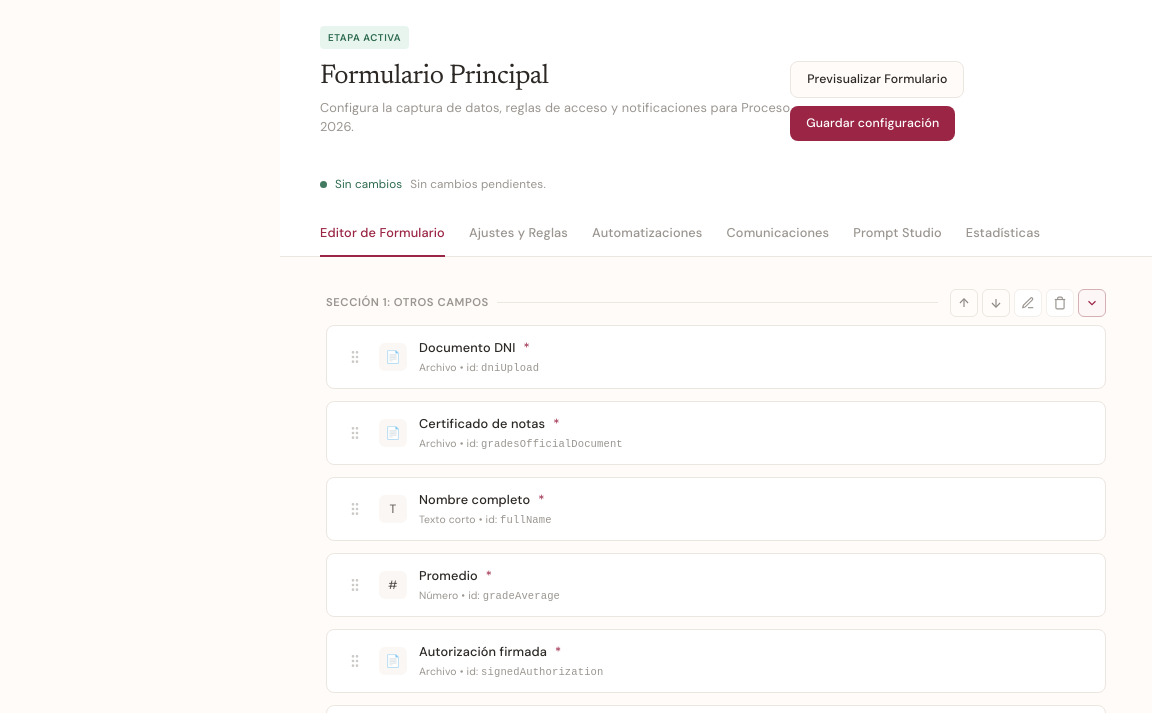
Scenario: StageConfigEditor › shows Visual and JSON rubric mode buttons in Settings tab
This screenshot has width=1152, height=713.
Click the button "Ajustes y Reglas" at (518, 234), box [469,211,568,257]
(page scrolled)
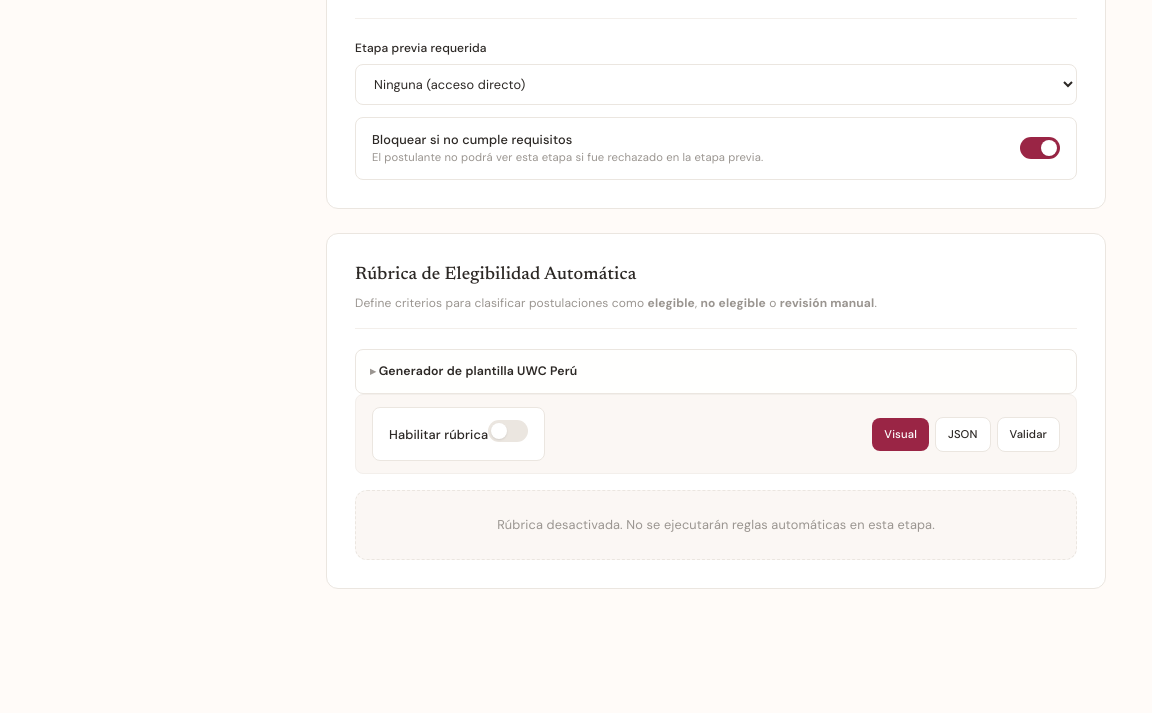
expect the button "Visual" is enabled: met, box [872,418,929,451]
expect the button "JSON" is enabled: met, box [935,417,991,452]
expect the button "Validar" is enabled: met, box [997,417,1060,452]
